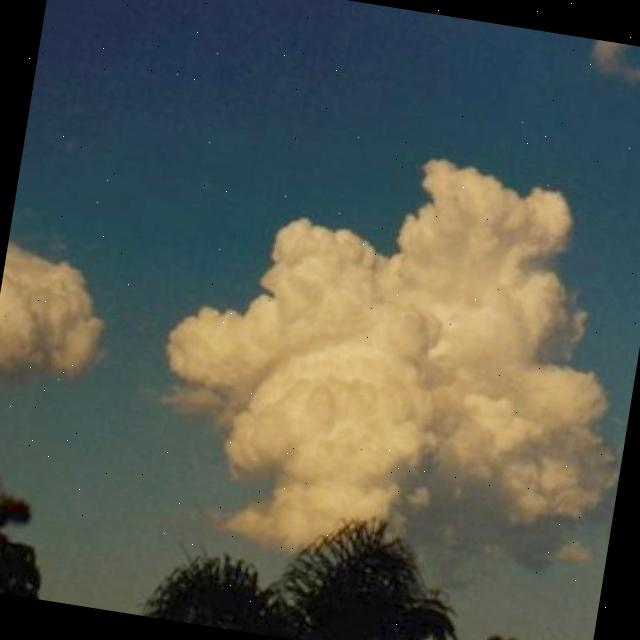Cu: (1, 58, 640, 518)
